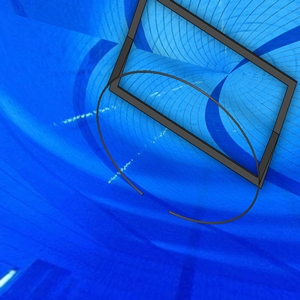circle: (95, 1, 298, 226)
